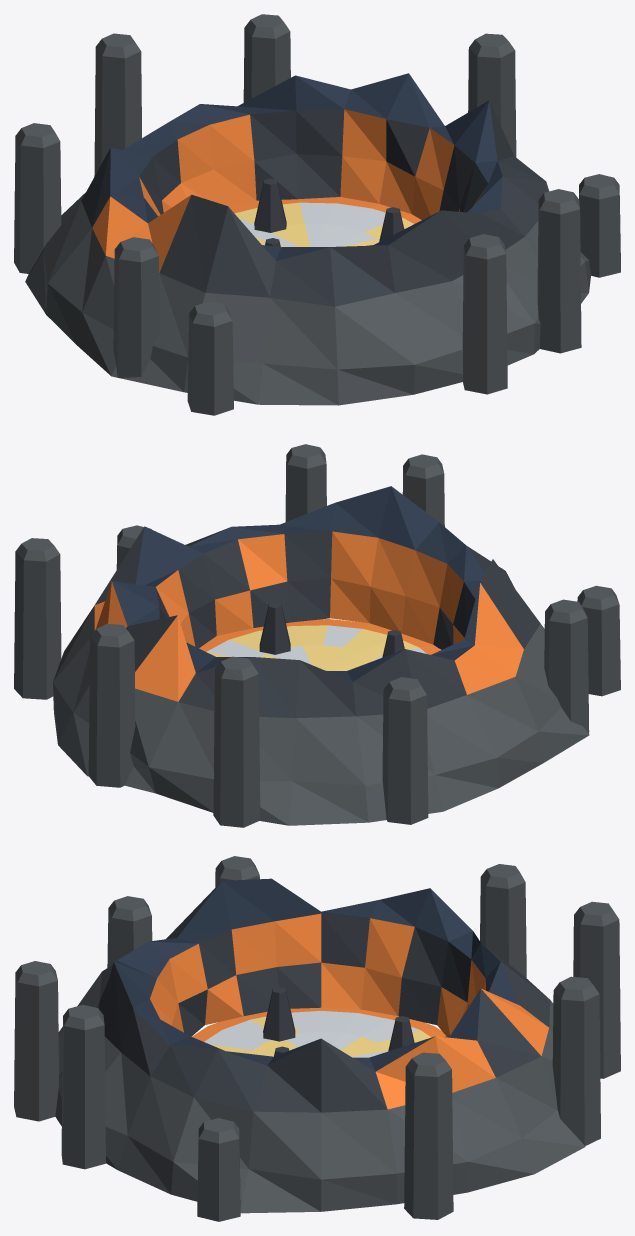
The model's file is Caldera.obj.
3 views of the same model, one above another, from view 1: azimuth 30°, elevation 25°; view 2: azimuth 150°, elevation 25°; view 3: azimuth 270°, elevation 25° (orthographic). The views are drawn at different scales.
Bounding box in the file's own units: 18.47 × 5.65 × 19.43.
